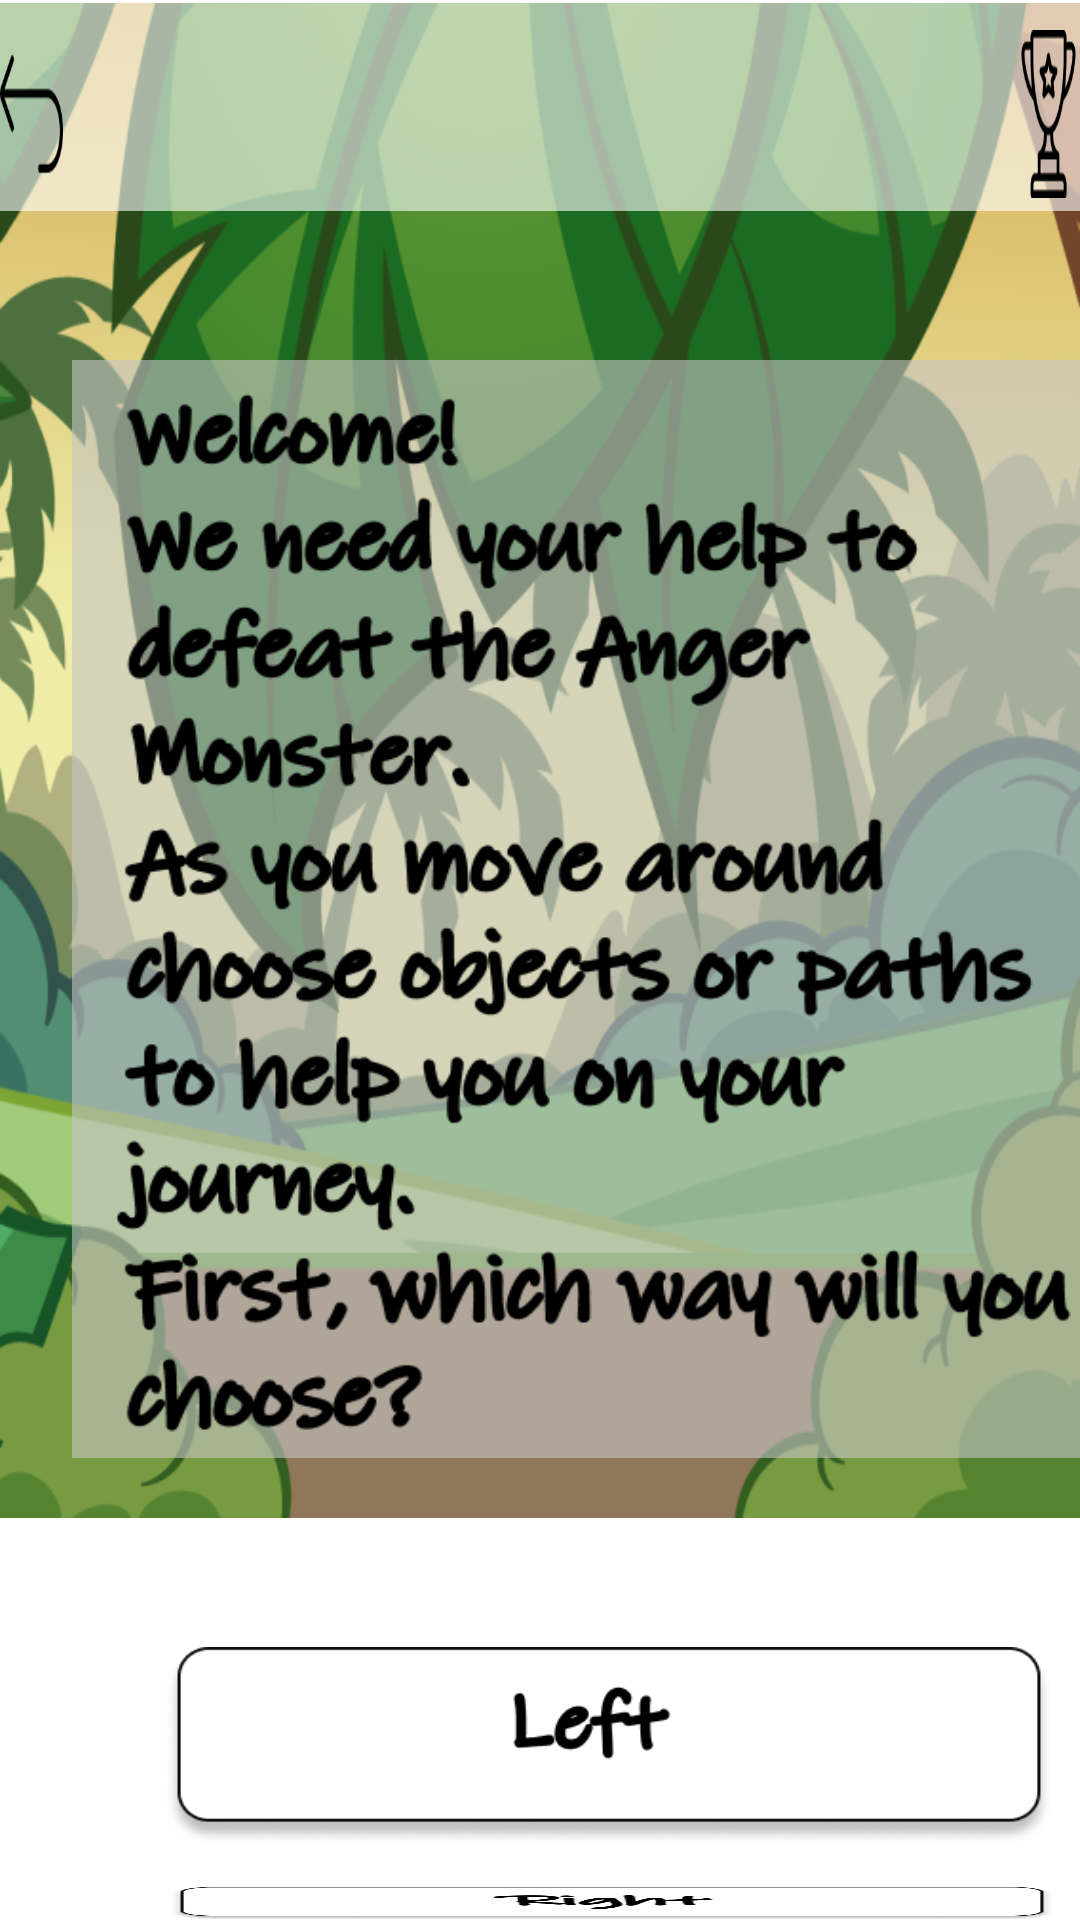

Where to tap for icons on this 1080×1920 app screen, as (x=x, y=y):
trophy: (x=1048, y=114)
